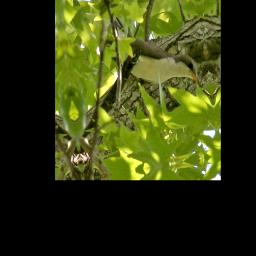Cuckoo: (102, 3, 202, 104)
